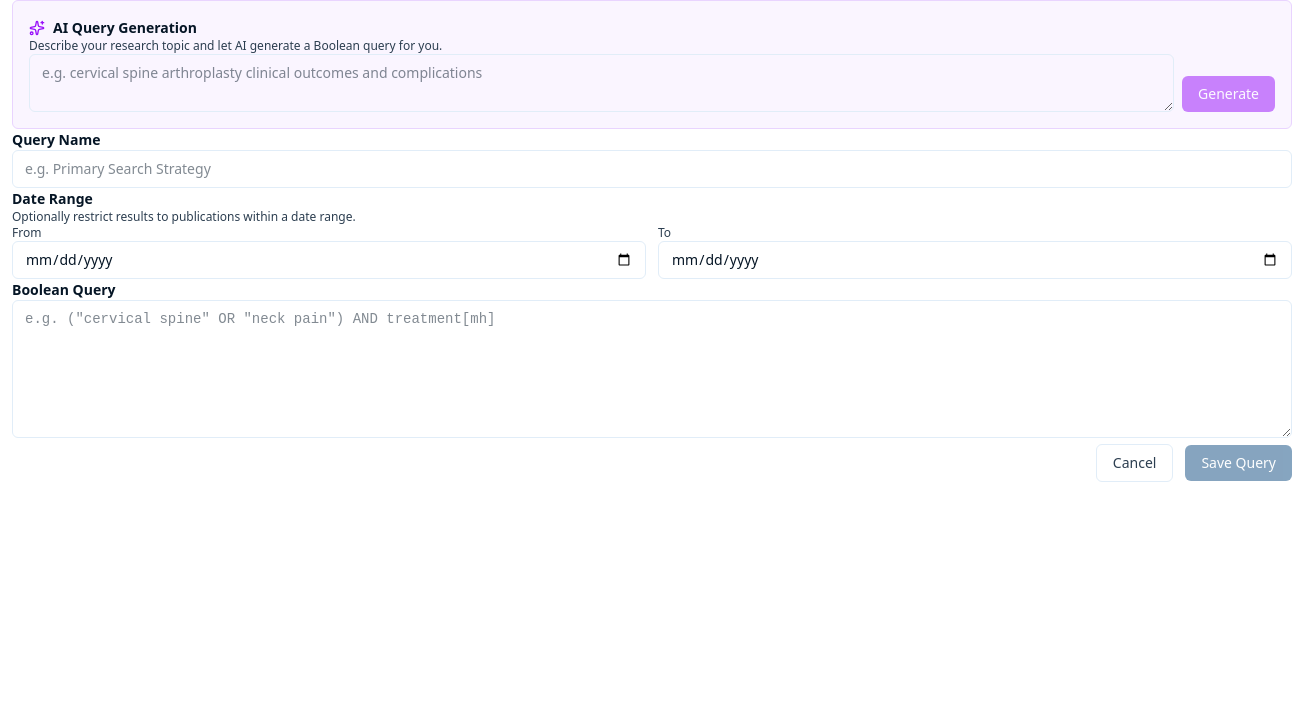
QueryBuilder › shows syntax preview for valid query
The width and height of the screenshot is (1304, 720).
Type "cancer AND treatment" into the text box with test id "query-string-input". click: (652, 369)
box: [12, 300, 1292, 438]
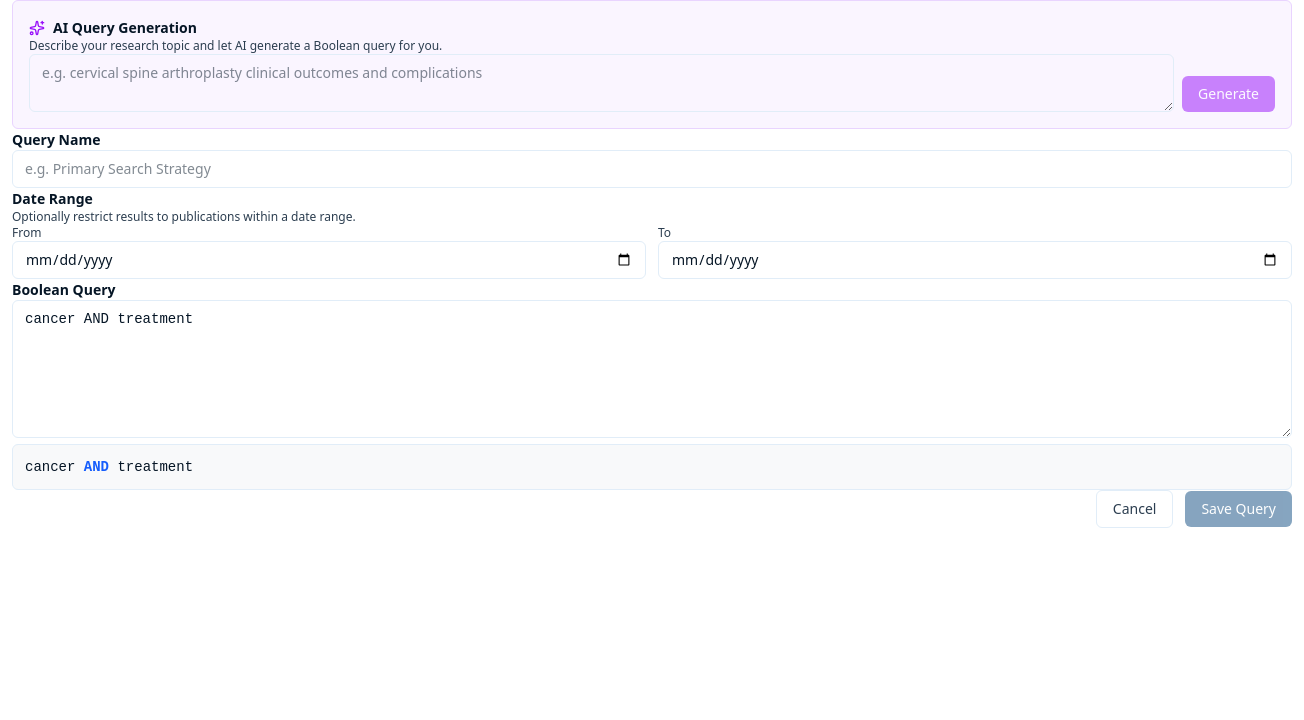
expect the element with test id "syntax-preview" is shown: met, box [12, 444, 1292, 490]
